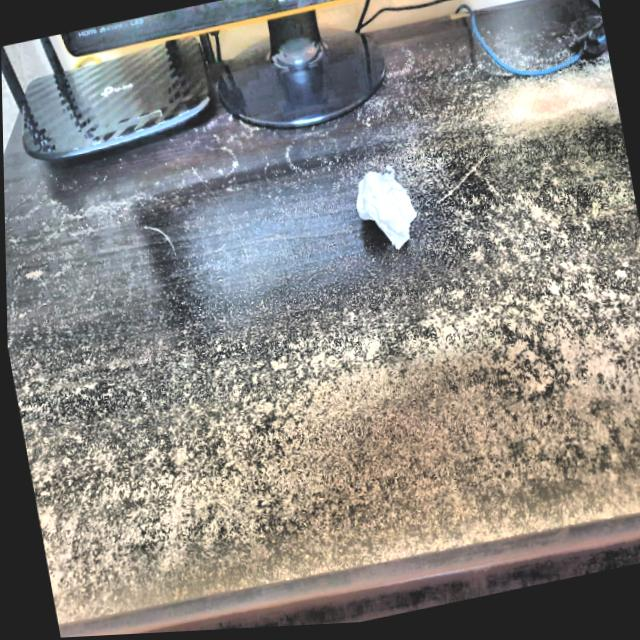Paper: (353, 160, 429, 272)
